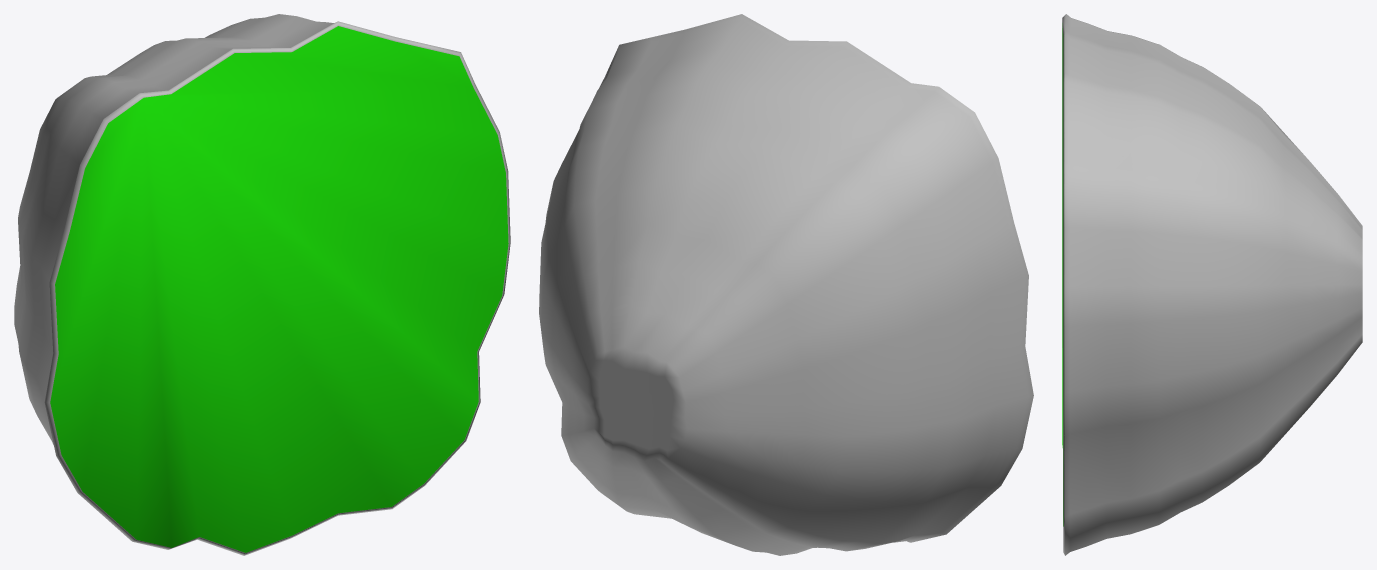
Rendered from MapTest.fbx.
3 renders of one model, left to right at view 1: azimuth 30°, elevation 25°; view 2: azimuth 150°, elevation 25°; view 3: azimuth 270°, elevation 25°, orthographic. The views are drawn at different scales.
Visible parts, largest first — view 1: pasted__polySurface119; view 2: pasted__polySurface119; view 3: pasted__polySurface119.
Part boxes in pixels (box(x1,y1,x2,y2)): pasted__polySurface119: box(14, 14, 510, 555); pasted__polySurface119: box(539, 14, 1033, 555); pasted__polySurface119: box(1062, 14, 1362, 555).
Bounding box in the file's own units: 29.71 × 31.21 × 18.42.
